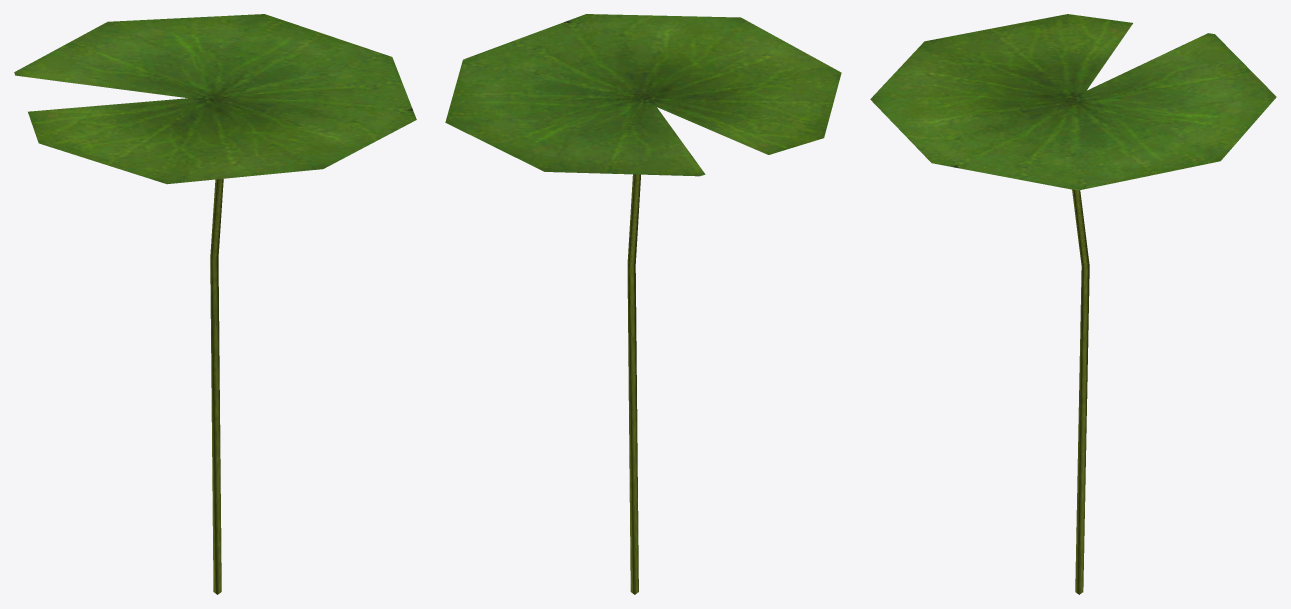
Rendered from lotusflower_01.glb.
The picture shows the model from 3 angles, left to right: view 1: azimuth 30°, elevation 25°; view 2: azimuth 150°, elevation 25°; view 3: azimuth 270°, elevation 25°; orthographic projection.
Visible parts, largest first — view 1: lotusflower_01; view 2: lotusflower_01; view 3: lotusflower_01.
Boxes of the visible parts, left/top/right/bottom form: lotusflower_01: left=14, top=14, right=416, bottom=594; lotusflower_01: left=445, top=14, right=841, bottom=594; lotusflower_01: left=870, top=14, right=1276, bottom=594.
Size of the model in its own units: 1.08 by 1.45 by 1.08.
1 material, 1 textured.
